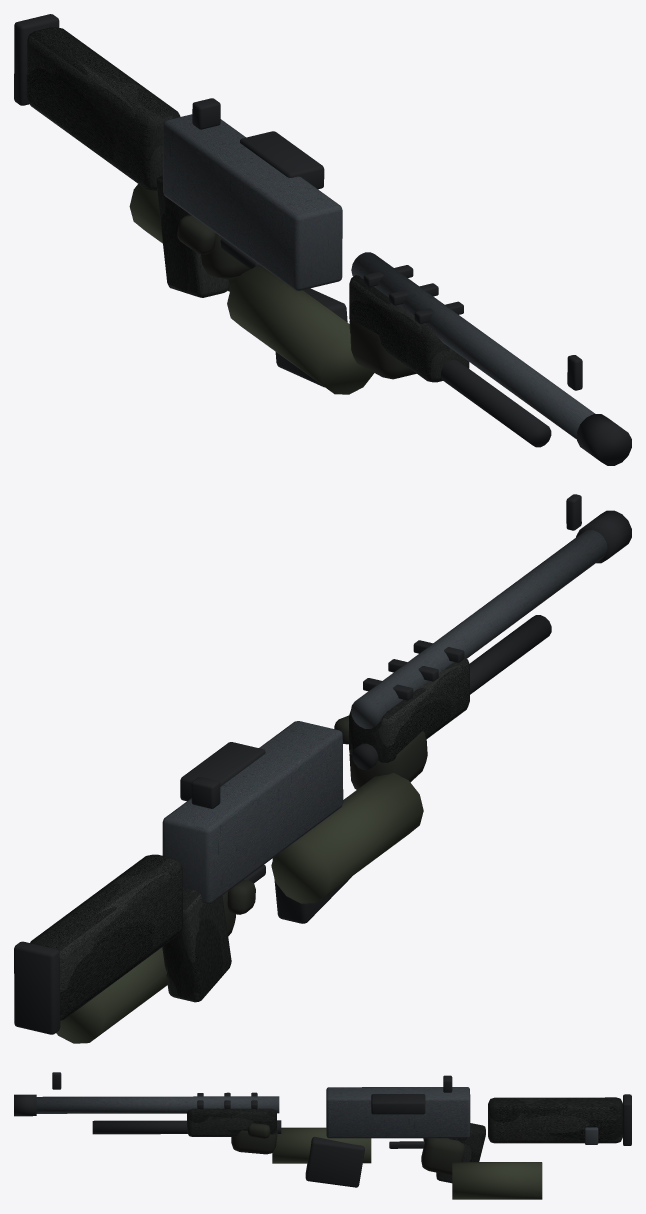
File: weapon_saiga.glb
3 renders of one model, top to bottom at view 1: azimuth 30°, elevation 25°; view 2: azimuth 150°, elevation 25°; view 3: azimuth 270°, elevation 25°, orthographic. The views are drawn at different scales.
Visible parts, largest first — view 1: WeaponMesh; view 2: WeaponMesh; view 3: WeaponMesh.
Part boxes in pixels (x1,y1,x2,y2): WeaponMesh: (14,14,631,465); WeaponMesh: (14,494,631,1043); WeaponMesh: (14,1072,631,1199).
Size of the model in its own units: 0.1707 by 0.2824 by 1.38.
5 materials, 2 textured.
